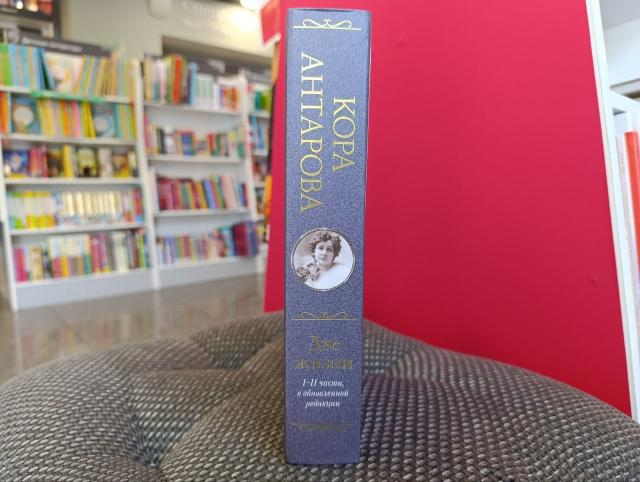book-s-spine: (285, 8, 372, 464)
